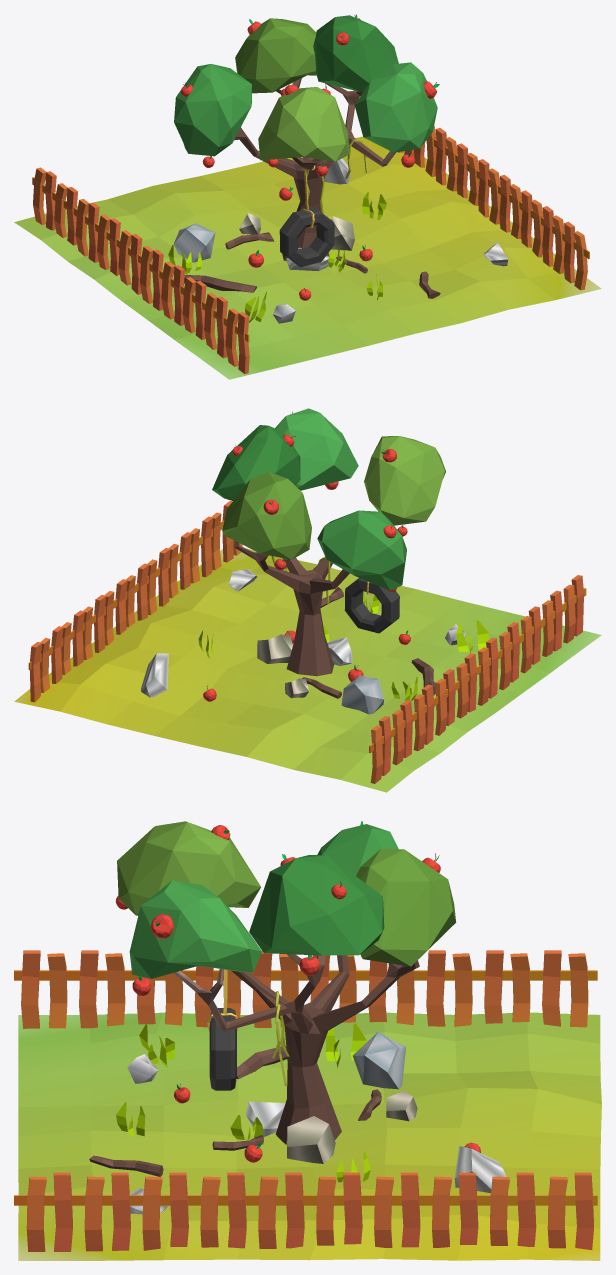
The model's file is arbol.glb.
The picture shows the model from 3 angles, top to bottom: view 1: azimuth 30°, elevation 25°; view 2: azimuth 150°, elevation 25°; view 3: azimuth 270°, elevation 25°; orthographic projection. The views are drawn at different scales.
Visible parts, largest first — view 1: Plane, Icosphere, Cube.001, Cube.002, Cube, llanta, LowPolyRock.003, Cube.003, Cylinder.001, LowPolyRock.005, LowPolyRock.006; view 2: Plane, Icosphere, Cube.001, Cube.002, Cube, llanta, LowPolyRock.003, LowPolyRock.006, LowPolyRock.005, Cube.003, LowPolyRock.004, Cube.004; view 3: Plane, Icosphere, Cube.002, Cube.001, Cube, Cube.004, Cube.003, LowPolyRock.003, llanta, LowPolyRock.005, LowPolyRock.006, LowPolyRock.004 (+5 smaller).
Boxes of the visible parts, x1=… form: Plane: x1=14, y1=136, x2=601, y2=379; Icosphere: x1=174, y1=15, x2=437, y2=161; Cube.001: x1=33, y1=167, x2=249, y2=373; Cube.002: x1=398, y1=125, x2=587, y2=290; Cube: x1=234, y1=78, x2=395, y2=260; llanta: x1=279, y1=207, x2=334, y2=267; LowPolyRock.003: x1=173, y1=223, x2=215, y2=262; Cube.003: x1=32, y1=177, x2=249, y2=342; Cylinder.001: x1=184, y1=275, x2=256, y2=292; LowPolyRock.005: x1=331, y1=216, x2=354, y2=250; LowPolyRock.006: x1=324, y1=158, x2=350, y2=184; Plane: x1=14, y1=548, x2=601, y2=792; Icosphere: x1=212, y1=408, x2=445, y2=590; Cube.001: x1=370, y1=575, x2=583, y2=783; Cube.002: x1=30, y1=501, x2=242, y2=702; Cube: x1=234, y1=541, x2=372, y2=676; llanta: x1=344, y1=578, x2=399, y2=633; LowPolyRock.003: x1=341, y1=675, x2=384, y2=714; LowPolyRock.006: x1=141, y1=653, x2=168, y2=697; LowPolyRock.005: x1=257, y1=634, x2=292, y2=663; Cube.003: x1=369, y1=588, x2=586, y2=753; LowPolyRock.004: x1=327, y1=637, x2=352, y2=665; Cube.004: x1=28, y1=520, x2=224, y2=670; Plane: x1=18, y1=1012, x2=601, y2=1260; Icosphere: x1=117, y1=821, x2=456, y2=978; Cube.002: x1=26, y1=1172, x2=593, y2=1251; Cube.001: x1=21, y1=950, x2=588, y2=1028; Cube: x1=174, y1=954, x2=419, y2=1144; Cube.004: x1=14, y1=1195, x2=597, y2=1205; Cube.003: x1=14, y1=970, x2=597, y2=980; LowPolyRock.003: x1=352, y1=1032, x2=405, y2=1089; llanta: x1=209, y1=1008, x2=236, y2=1090; LowPolyRock.005: x1=287, y1=1116, x2=335, y2=1163; LowPolyRock.006: x1=454, y1=1146, x2=506, y2=1193; LowPolyRock.004: x1=245, y1=1101, x2=285, y2=1136.
Size of the model in its own units: 16.92 by 10.11 by 16.97.
1 material, 1 textured.
